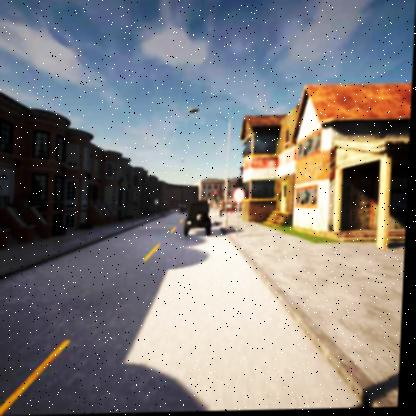vehicle: (185, 200, 214, 235)
